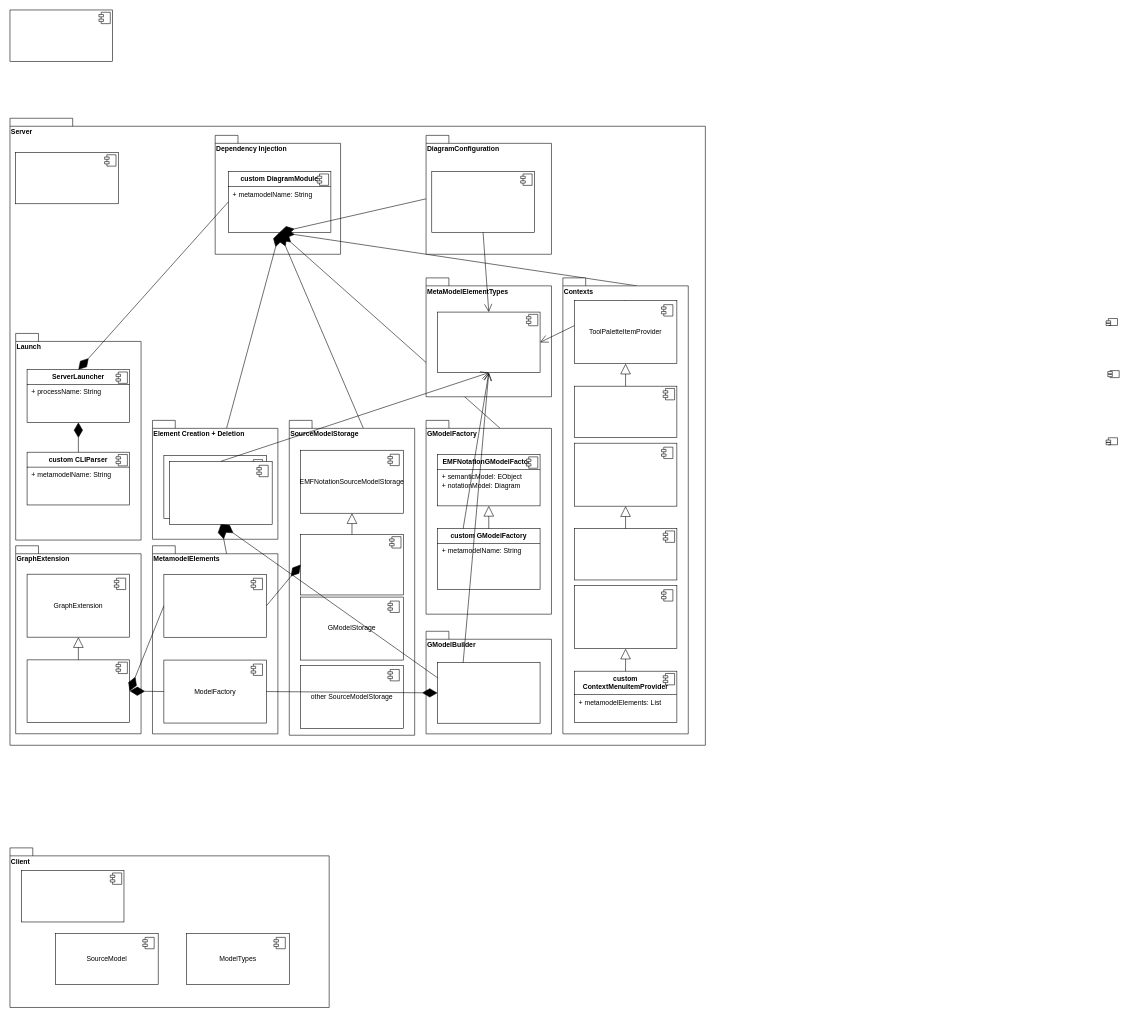
This 1129x1017 diagram has some shape labels left out. Each missing label, with the centre of its shape:
Builder + metamodelElements: List: pixel 488 692
Clientproject + MetamodelName: String: pixel 72 896
CommandPaletteActionProvider: pixel 625 474
ContextMenuItemProvider: pixel 625 617
Create Handler: pixel 220 492
custom CommandPaletteActionProvider + metamodelElements: List: pixel 625 554
custom GraphExtension + metamodelName: String: pixel 78 690
custom SourceModelStorage + metamodelName: String: pixel 351 564
custom ToolPaletteItemProvider + metamodelElements: List: pixel 625 411
DiagramConfiguration + metamodelElements: List: pixel 482 201
ModelPackage: pixel 214 605
ModelTypes + metamodelElements: List: pixel 488 342
Project + metamodelName: String + serverPath: String + clientPath: String: pixel 61 35
Serverproject + metamodelName: String: pixel 66 178
